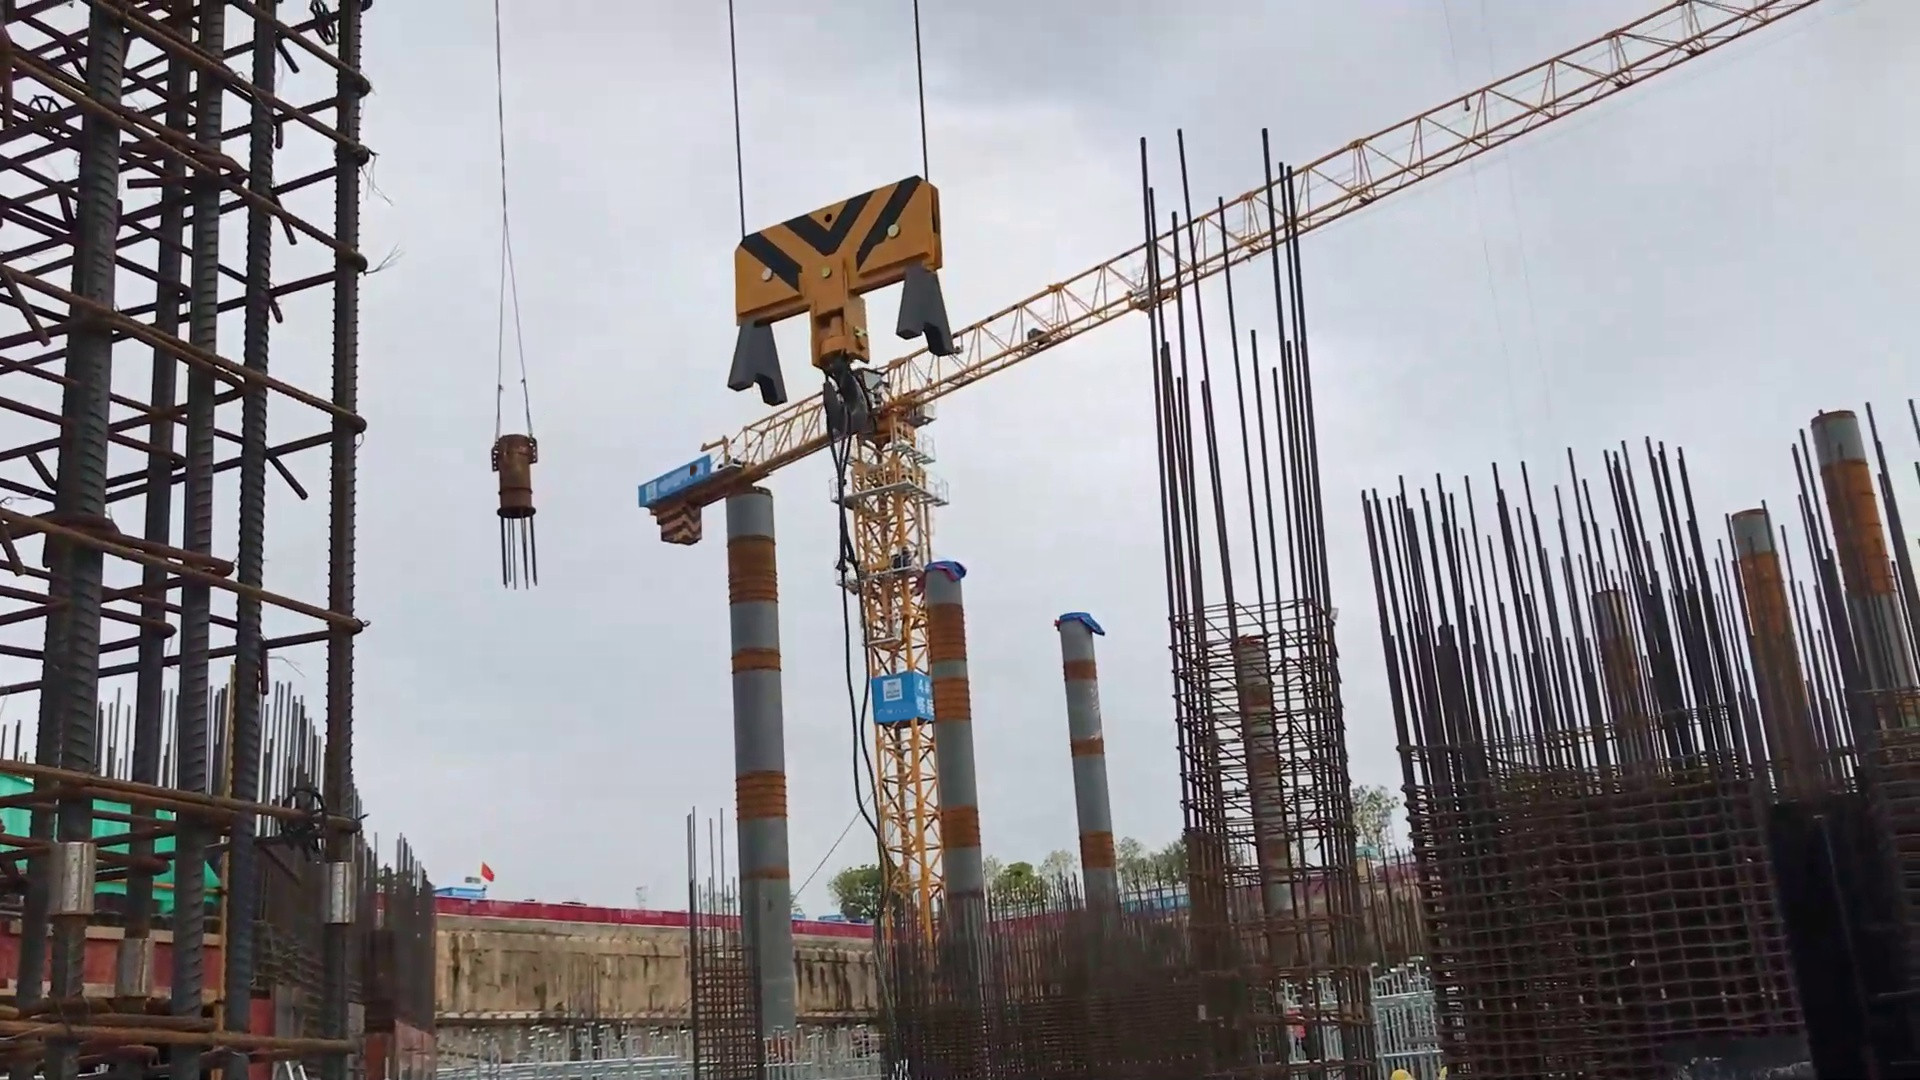hook: (727, 169, 981, 431)
